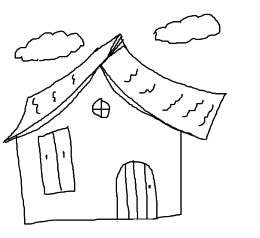closed_window: (35, 126, 76, 194), (91, 98, 112, 118)
clouds: (15, 29, 84, 63), (152, 13, 221, 44)
door: (112, 159, 161, 227)
roof: (3, 32, 232, 148)
wall: (16, 66, 190, 228)
